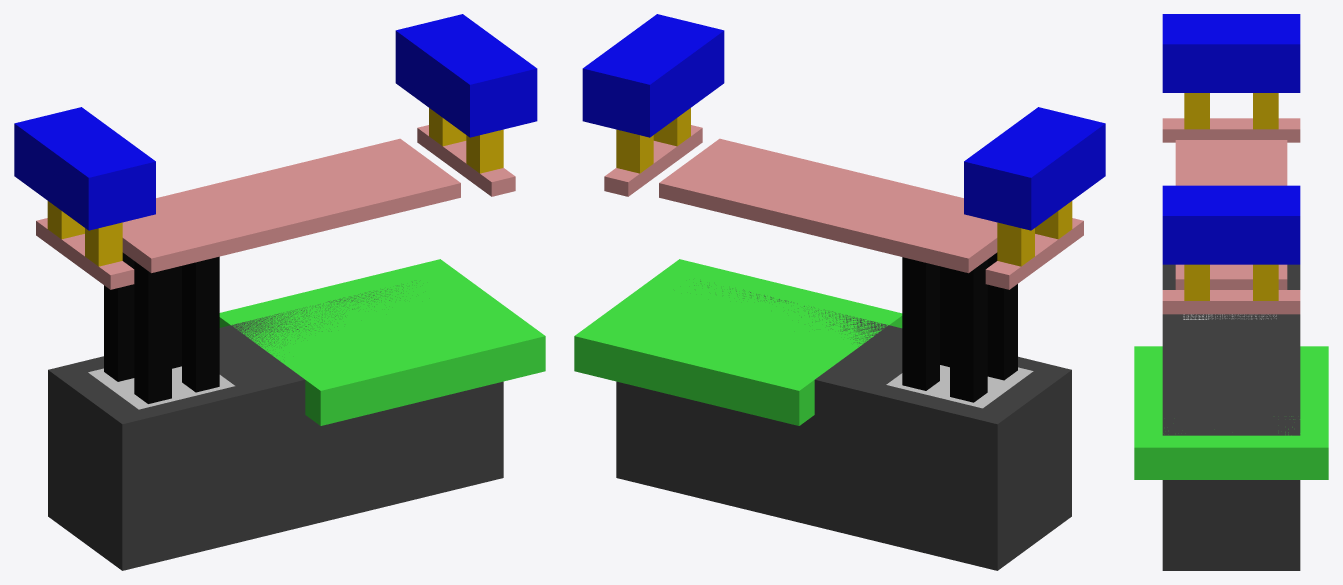
The model's file is sky130_fd_sc_hd__diode_2.obj.
The picture shows the model from 3 angles, left to right: view 1: azimuth 30°, elevation 25°; view 2: azimuth 150°, elevation 25°; view 3: azimuth 270°, elevation 25°; orthographic projection. The views are drawn at different scales.
Visible parts, largest first — view 1: subs, nwell, li, metal1, licon, mcon, diff; view 2: subs, nwell, li, metal1, licon, mcon, diff; view 3: subs, metal1, nwell, li, mcon.
Part boxes in pixels (x1,y1,x2,y2): subs: [48, 282, 503, 570]; nwell: [219, 259, 545, 425]; li: [36, 125, 515, 289]; metal1: [14, 14, 537, 230]; licon: [104, 252, 219, 403]; mcon: [47, 108, 503, 266]; diff: [88, 366, 234, 409]; subs: [616, 281, 1071, 570]; nwell: [574, 259, 902, 425]; li: [604, 125, 1083, 289]; metal1: [582, 14, 1105, 230]; licon: [902, 252, 1017, 402]; mcon: [616, 108, 1072, 266]; diff: [886, 365, 1033, 408]; subs: [1162, 264, 1300, 570]; metal1: [1162, 14, 1300, 264]; nwell: [1134, 346, 1328, 479]; li: [1162, 118, 1300, 314]; mcon: [1184, 93, 1278, 300].
Bounding box in the file's own units: 3.2 × 2.74 × 1.3.
